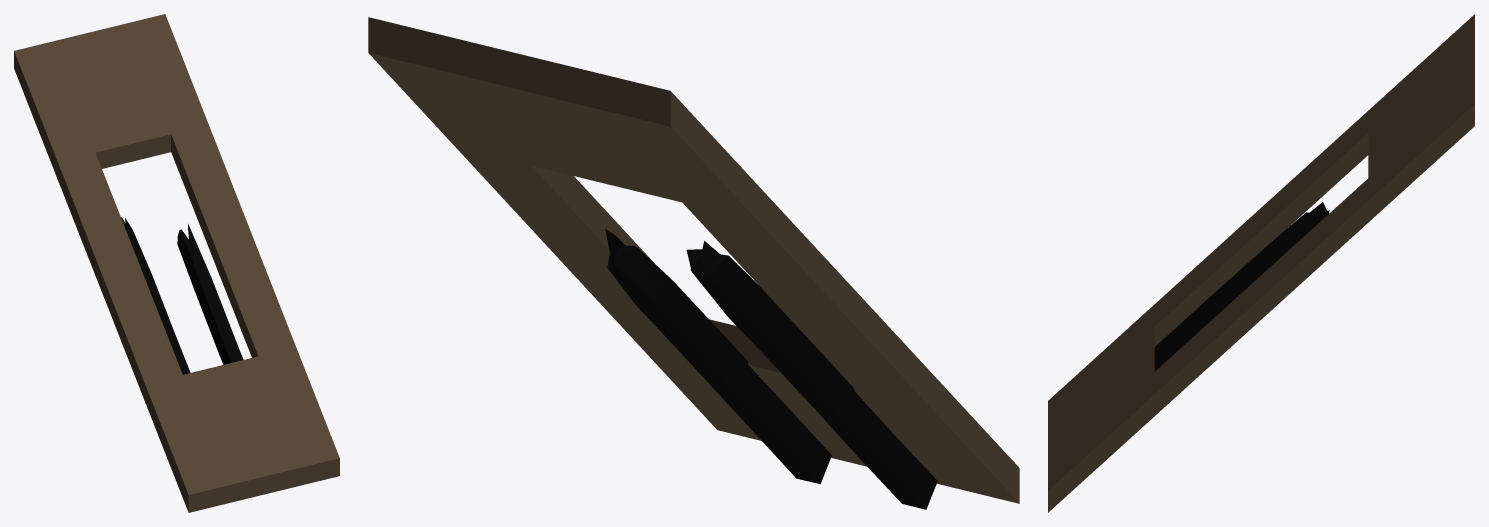
Rendered from dach_1x2_kaputt.glb.
3 views of the same model, side by side, from view 1: azimuth 30°, elevation 25°; view 2: azimuth 150°, elevation 25°; view 3: azimuth 270°, elevation 25° (orthographic). The views are drawn at different scales.
Parts seen in each view (by area): view 1: dach_1x2_kaputt; view 2: dach_1x2_kaputt; view 3: dach_1x2_kaputt.
Part boxes in pixels (x1=…): dach_1x2_kaputt: x1=14, y1=14, x2=339, y2=512; dach_1x2_kaputt: x1=368, y1=17, x2=1019, y2=509; dach_1x2_kaputt: x1=1048, y1=14, x2=1474, y2=512.
Bounding box in the file's own units: 1 × 2.16 × 2.
